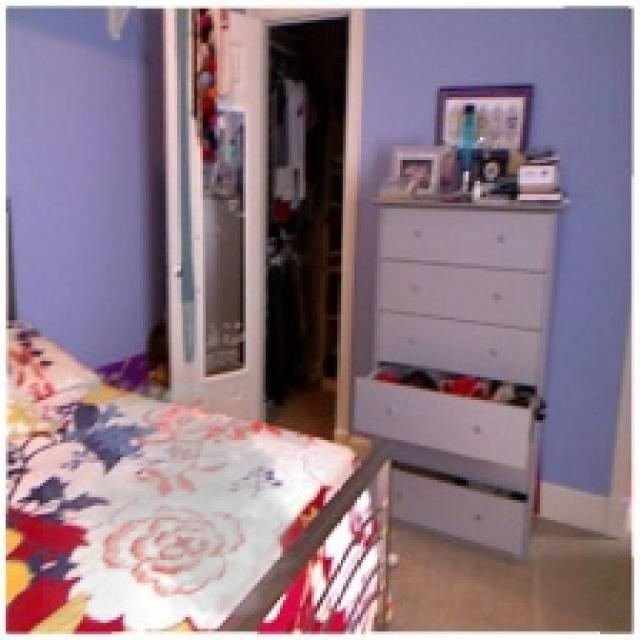Smoke: (43, 363, 314, 626)
